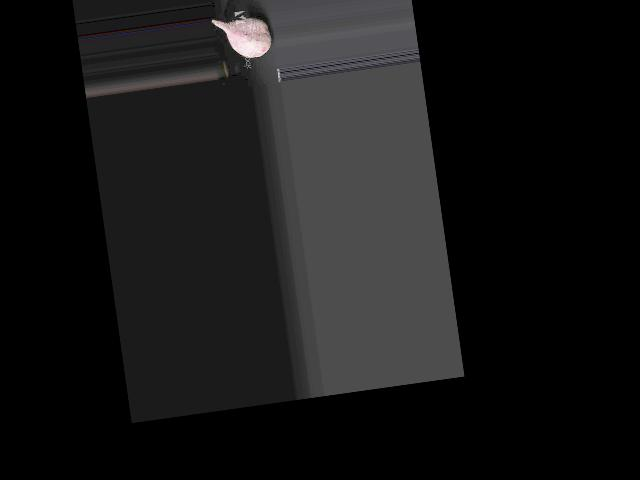beet: (212, 13, 273, 63)
